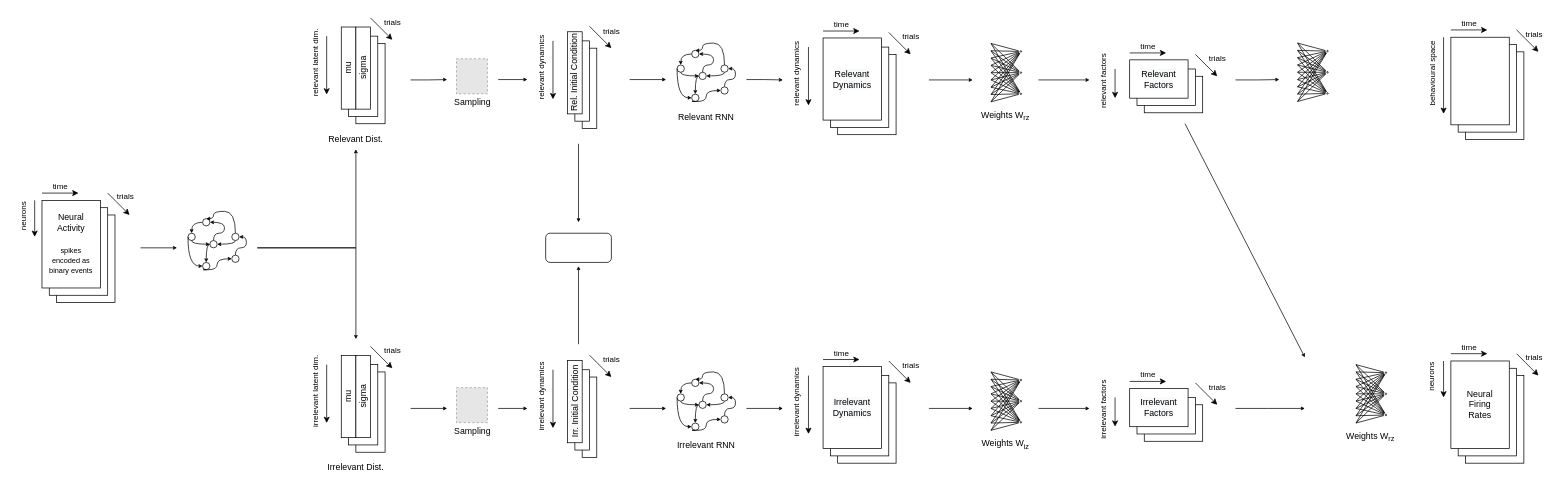
This 1558x487 diagram has some shape labels left out. Grey dashed boxes stand in for pictures. The centre of each missing label's shape, as x and y in pixels:
"Behaviour" belongs at (1479,80).
"Covariance Penalty" belongs at (578,247).
"Encoder RNN" belongs at (216,247).
"Weights C y" belongs at (1312,79).
